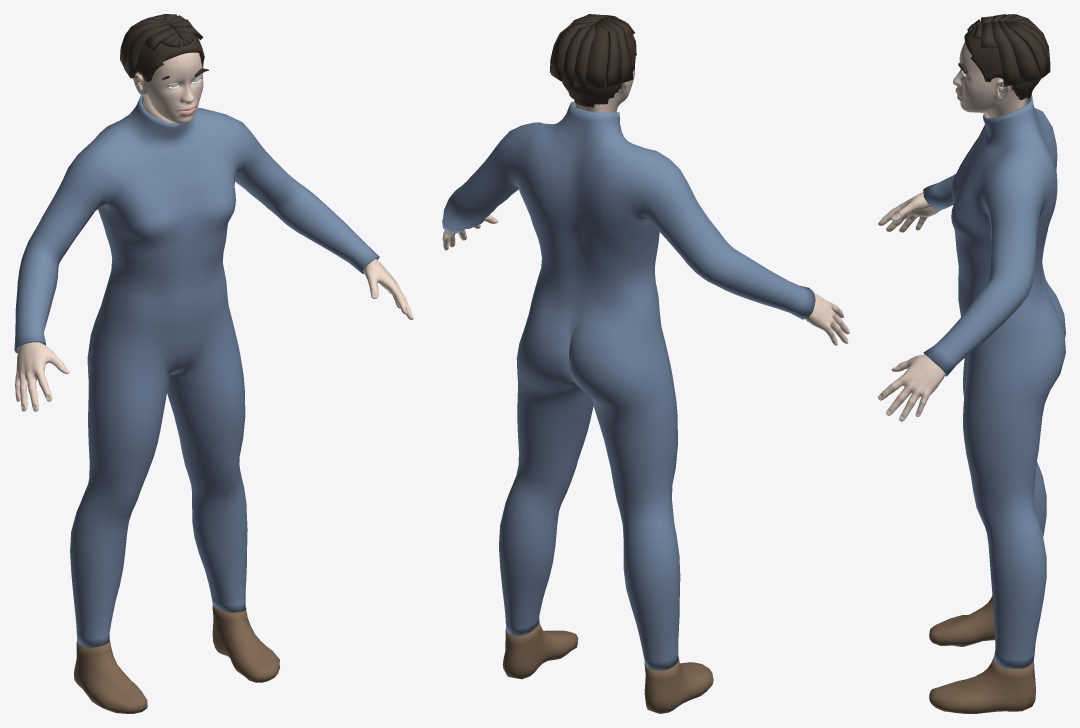
The model's file is Human_MakeHuman_Base.fbx.
3 renders of one model, left to right at view 1: azimuth 30°, elevation 25°; view 2: azimuth 150°, elevation 25°; view 3: azimuth 270°, elevation 25°, orthographic. The views are drawn at different scales.
Parts seen in each view (by area): view 1: Character_Clothes, Character_Body, Character_Shoes, Character_Hair; view 2: Character_Clothes, Character_Hair, Character_Shoes, Character_Body; view 3: Character_Clothes, Character_Body, Character_Shoes, Character_Hair.
Part boxes in pixels (x1,y1,x2,y2): Character_Clothes: (14, 94, 379, 647); Character_Body: (15, 52, 413, 411); Character_Shoes: (74, 605, 279, 713); Character_Hair: (120, 14, 208, 81); Character_Clothes: (442, 102, 815, 670); Character_Hair: (549, 14, 636, 107); Character_Shoes: (502, 621, 713, 713); Character_Body: (442, 69, 849, 345); Character_Clothes: (923, 95, 1065, 668); Character_Body: (878, 42, 1027, 421); Character_Shoes: (929, 595, 1035, 713); Character_Hair: (958, 14, 1050, 100).
Bounding box in the file's own units: 1.05 × 1.68 × 0.4386.
